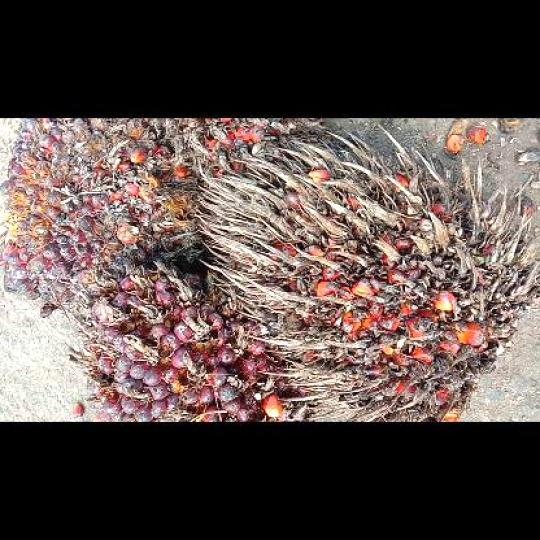masak: (66, 260, 313, 420), (0, 117, 201, 311)
terlalu masak: (196, 125, 539, 420), (143, 118, 319, 178)
